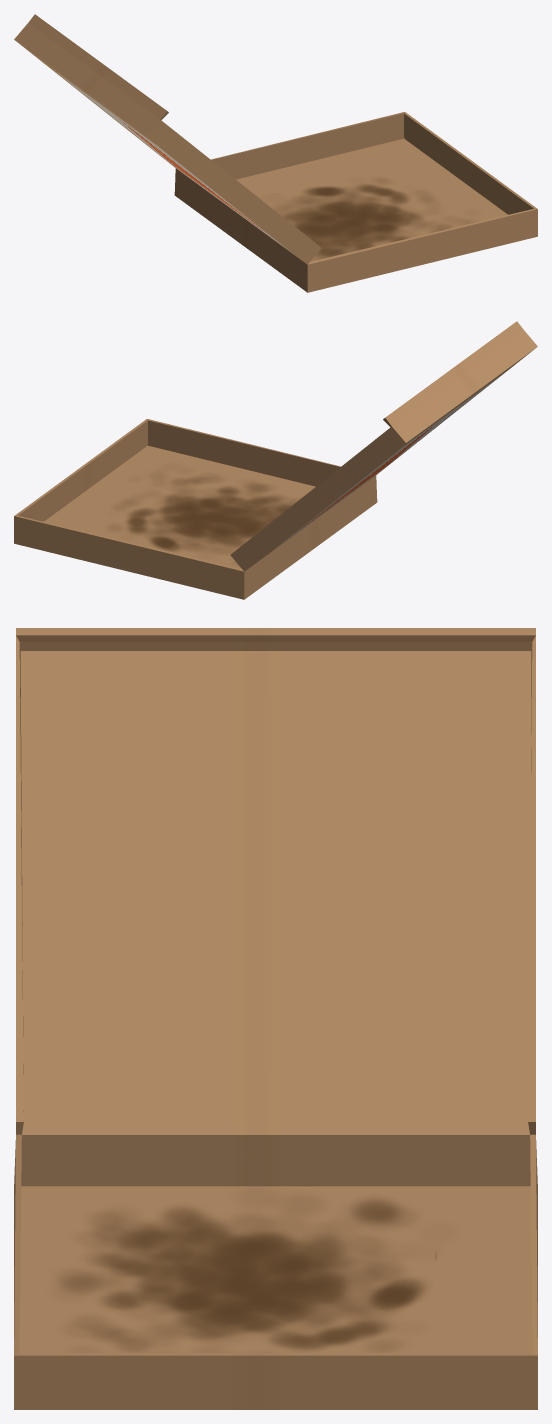
The model's file is PizzaBoxOpen.fbx.
3 views of the same model, one above another, from view 1: azimuth 30°, elevation 25°; view 2: azimuth 150°, elevation 25°; view 3: azimuth 270°, elevation 25° (orthographic). The views are drawn at different scales.
Visible parts, largest first — view 1: Plane.001, Plane.003; view 2: Plane.001, Plane.003; view 3: Plane.001.
Part boxes in pixels (x1,y1,x2,y2): Plane.001: [14, 14, 537, 292]; Plane.003: [54, 70, 285, 248]; Plane.001: [14, 321, 537, 599]; Plane.003: [274, 370, 507, 549]; Plane.001: [14, 628, 537, 1409].
Size of the model in its own units: 557 by 294 by 328.
2 materials, 2 textured.
